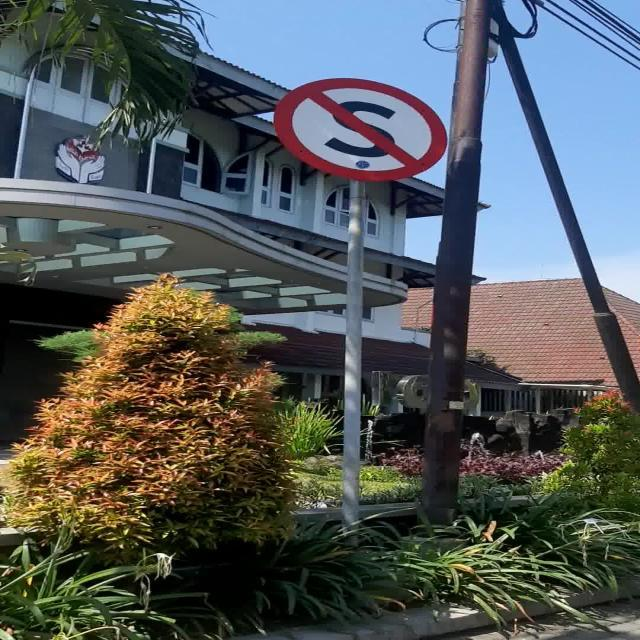Dilarang Berhenti: (274, 78, 448, 180)
